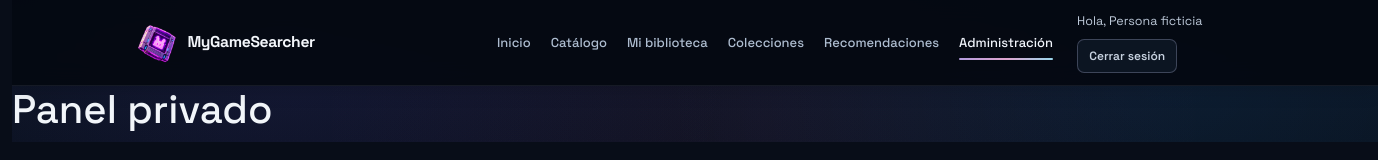
Test: AuthProvider y persistencia › logout elimina token, saludo y Administración, y navega a login
Expected: the heading "Panel privado" is shown, x1=12 y1=84 x2=273 y2=135
Expected: the link "Administración" is shown, x1=951 y1=22 x2=1061 y2=63
Click the button "Cerrar sesión". click: point(1127, 56)
box: x1=1077 y1=39 x2=1177 y2=73
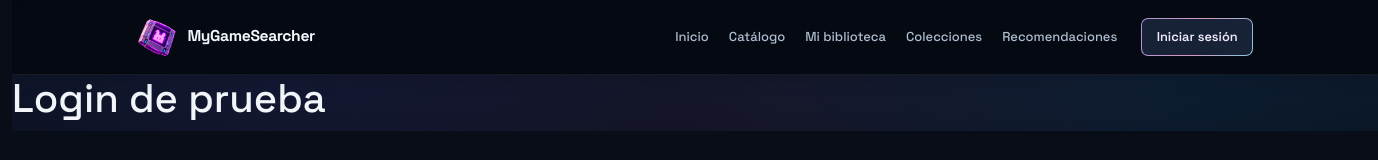
Expected: the heading "Login de prueba" is shown, x1=12 y1=73 x2=326 y2=124
Expected: the link "Administración" is gone
